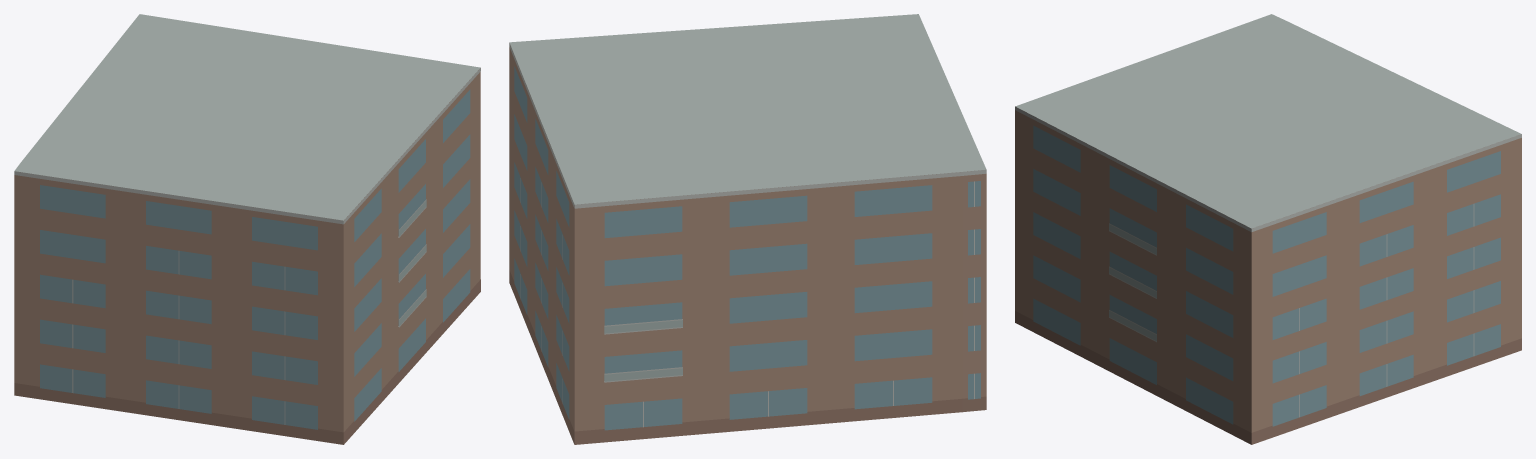
The model's file is survey-upis-32630965.glb.
3 views of the same model, side by side, from view 1: azimuth 30°, elevation 25°; view 2: azimuth 150°, elevation 25°; view 3: azimuth 270°, elevation 25° (orthographic). The views are drawn at different scales.
Parts seen in each view (by area): view 1: survey-upis-32630965.tmp; view 2: survey-upis-32630965.tmp; view 3: survey-upis-32630965.tmp.
Boxes of the visible parts, box(x1,y1,x2,y2) form: survey-upis-32630965.tmp: box(14, 14, 480, 444); survey-upis-32630965.tmp: box(509, 14, 986, 444); survey-upis-32630965.tmp: box(1015, 14, 1521, 444).
Size of the model in its own units: 30.65 by 14.4 by 30.58.
